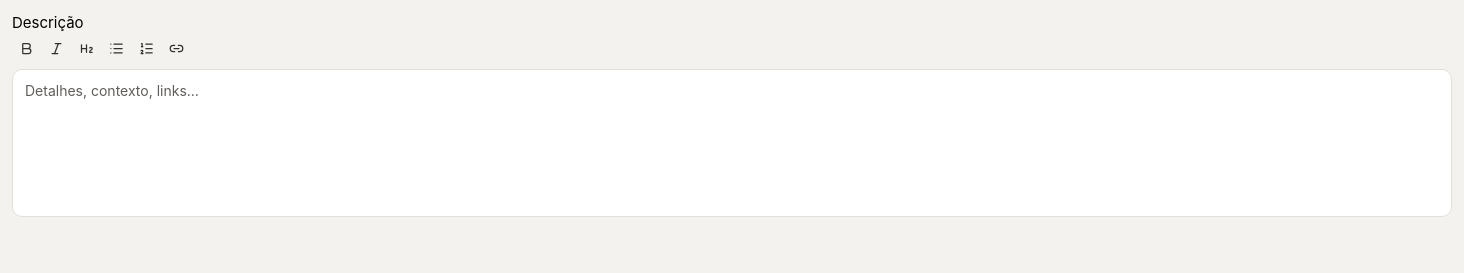
Test: EditorDeDescricao (fatia E) › ⚠️ link com javascript: é recusado no campo
Press k in the field named "Descrição", box [12,68,1452,216]
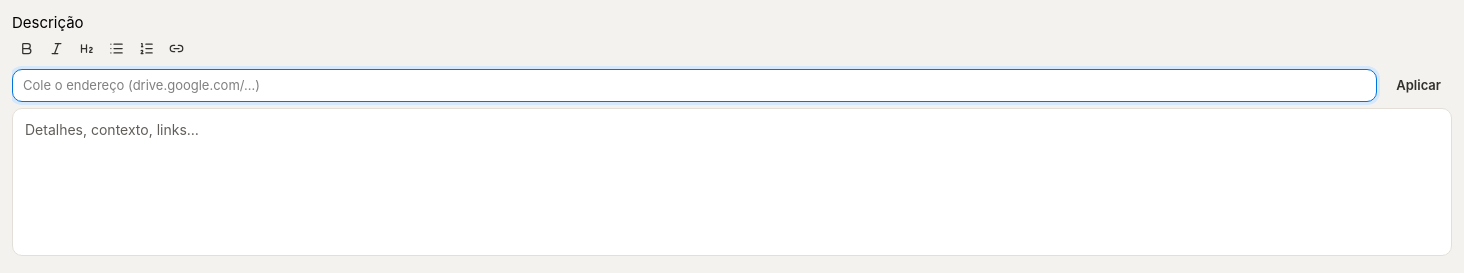
Type "javascript:alert(1)" into the field named "Endereço do link" at (695, 85), box [12,68,1377,102]
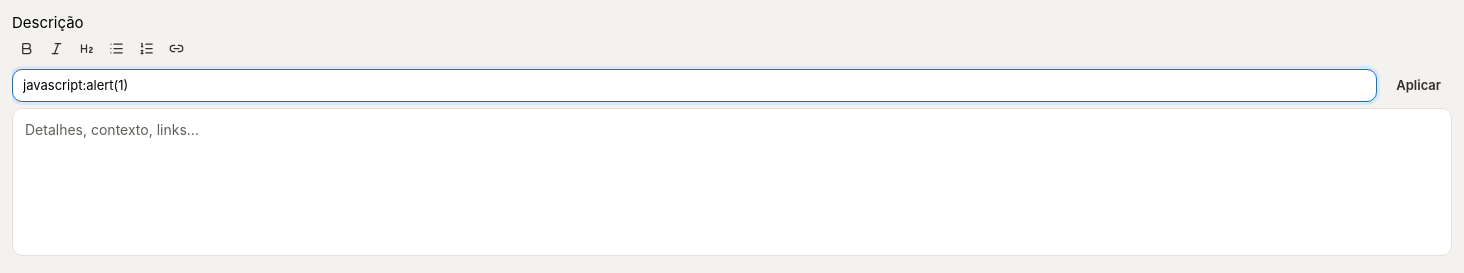
Press Enter in the field named "Endereço do link", box [12,68,1377,102]
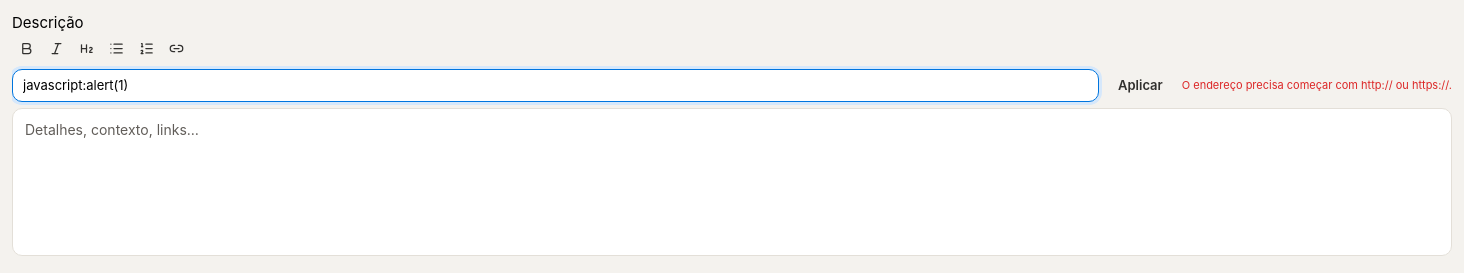
Result: the message shows "http" at [1182,78,1452,92]
